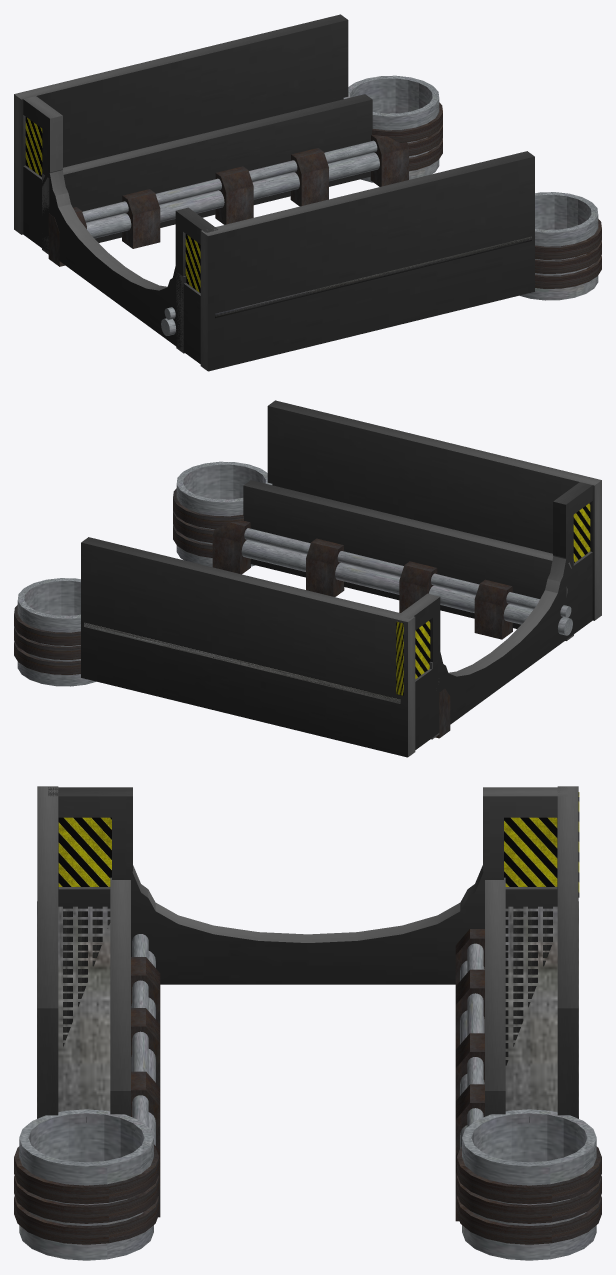
The model's file is Boss3Building.fbx.
The picture shows the model from 3 angles, top to bottom: view 1: azimuth 30°, elevation 25°; view 2: azimuth 150°, elevation 25°; view 3: azimuth 270°, elevation 25°; orthographic projection. The views are drawn at different scales.
Visible parts, largest first — view 1: pCube236; view 2: pCube236; view 3: pCube236.
Part boxes in pixels (x1=…): pCube236: x1=14, y1=14, x2=601, y2=371; pCube236: x1=14, y1=400, x2=601, y2=757; pCube236: x1=14, y1=786, x2=601, y2=1260.
Size of the model in its own units: 53.55 by 18.07 by 47.8.
Materials: 6 (6 with a texture image).
